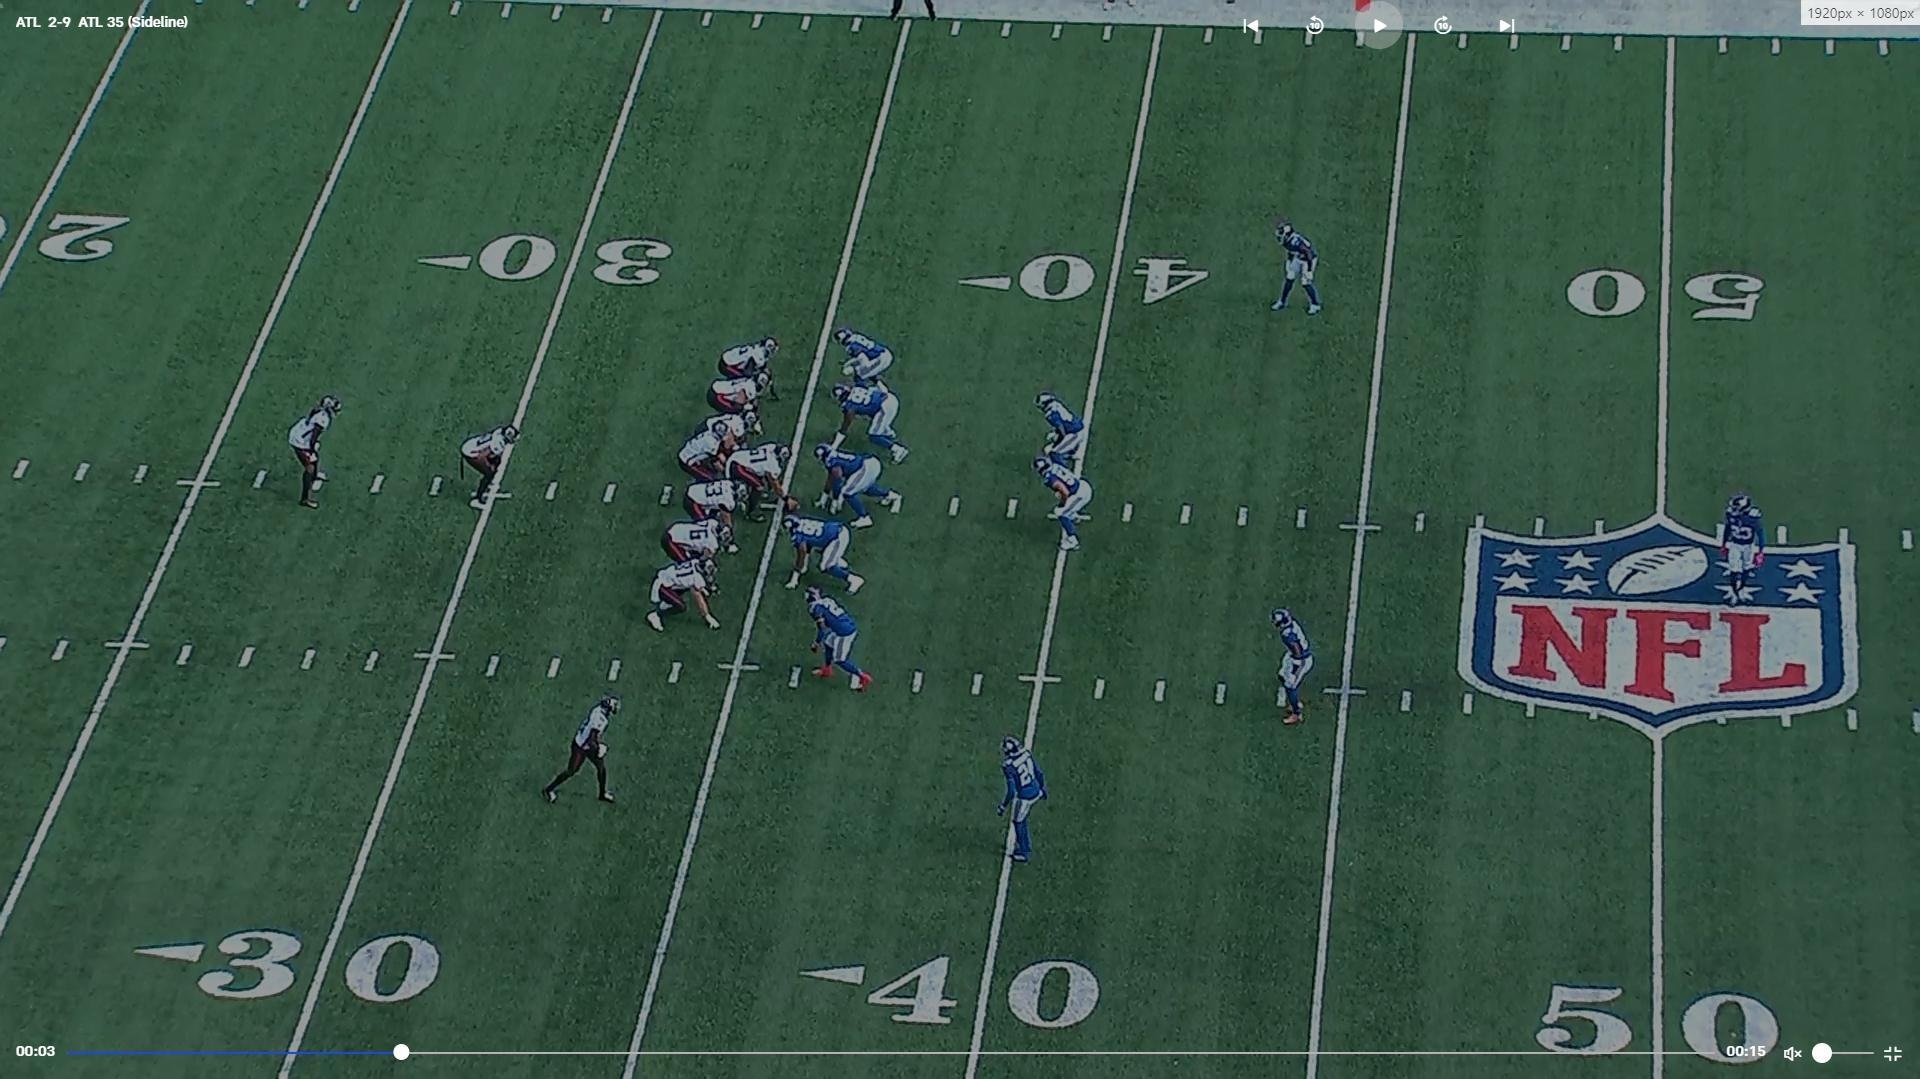player: (534, 691, 624, 813), (800, 583, 877, 695), (809, 441, 899, 530), (783, 513, 871, 599), (996, 733, 1052, 865), (829, 380, 915, 465), (643, 549, 724, 636), (281, 393, 338, 514), (462, 420, 529, 516), (719, 444, 796, 526), (1265, 215, 1326, 318), (676, 475, 750, 557), (1034, 448, 1092, 552), (1265, 604, 1313, 729), (1714, 490, 1764, 607), (1037, 387, 1091, 489), (655, 523, 733, 593), (690, 407, 767, 474), (672, 418, 745, 487), (707, 334, 781, 400), (699, 369, 767, 436), (833, 321, 896, 392)
